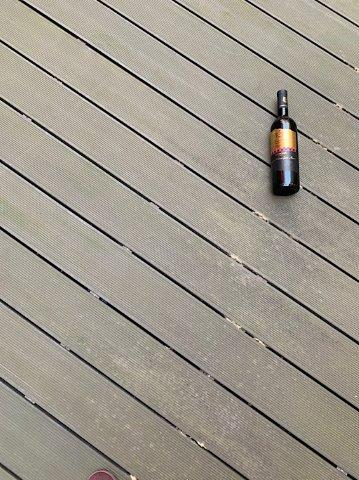botolkaca: (269, 91, 299, 197)
